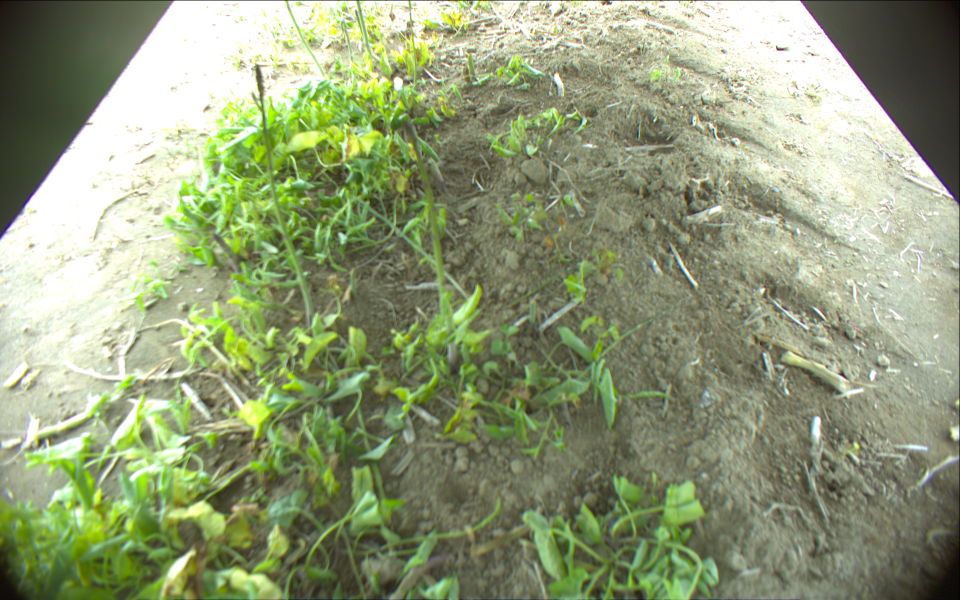aspa: (254, 63, 315, 332), (398, 119, 460, 361), (282, 1, 331, 79), (358, 1, 385, 62), (339, 17, 357, 68), (467, 53, 476, 81)
